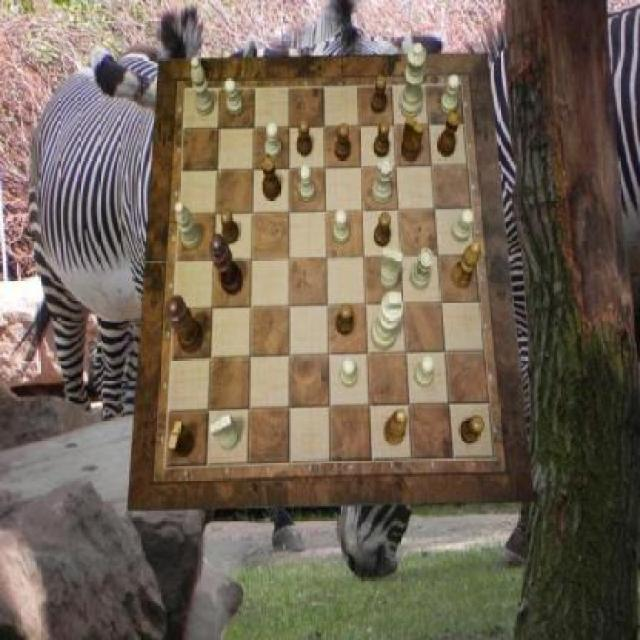bishop: (452, 242, 480, 289), (384, 410, 408, 446)
black-bishop: (209, 234, 243, 295)
black-king: (402, 115, 424, 161), (168, 420, 194, 458)
black-knight: (460, 417, 485, 445), (220, 209, 240, 244), (374, 122, 391, 159), (297, 118, 313, 157), (371, 75, 387, 114), (374, 212, 391, 248), (336, 123, 352, 161), (335, 305, 353, 337)
black-pawn: (164, 295, 203, 354)
black-queen: (437, 111, 460, 158), (262, 154, 280, 200)
black-rook: (190, 57, 214, 115), (175, 203, 202, 251)
white-bishop: (371, 291, 404, 349)
white-king: (209, 415, 239, 450), (378, 248, 402, 290)
white-knight: (442, 76, 461, 116), (452, 211, 475, 243), (416, 357, 436, 389), (225, 79, 242, 116), (264, 123, 280, 161), (298, 166, 314, 202), (334, 209, 350, 244), (340, 357, 358, 388)
white-pawn: (400, 42, 427, 118)
white-queen: (411, 248, 434, 290), (372, 157, 393, 202)
